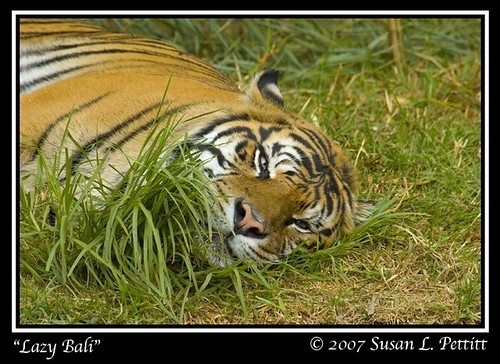tigre: (21, 20, 376, 272)
